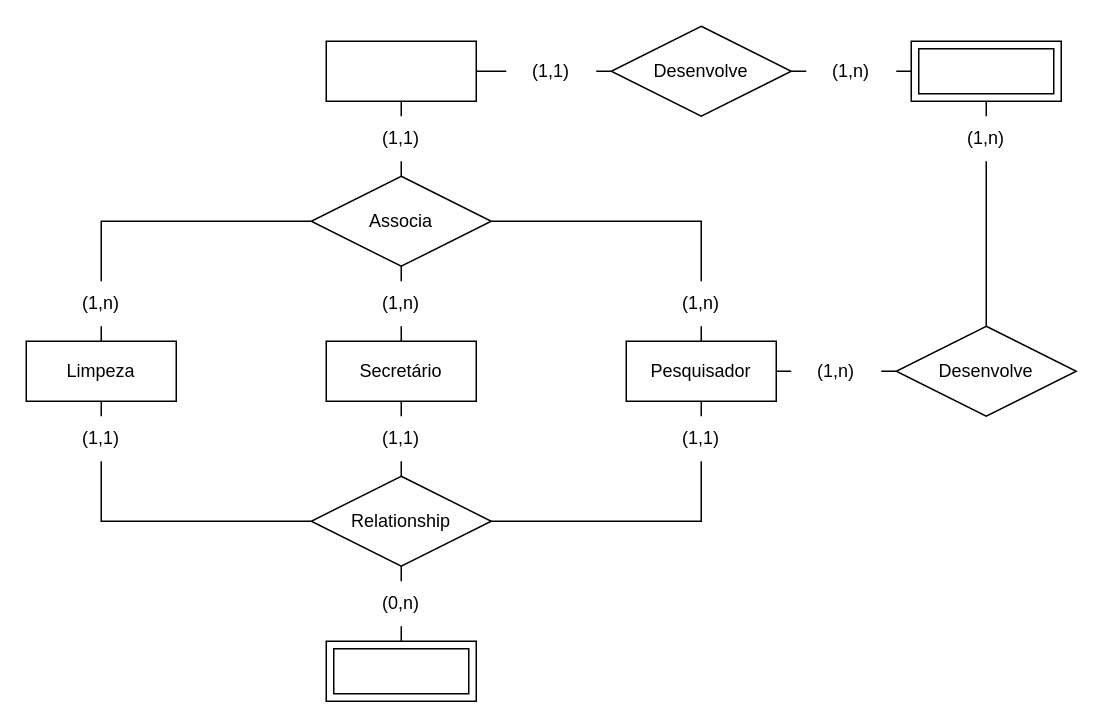
Some shapes in this 1103 by 728 pixel diagram are drawn without their labels. Here are the shapes that lost their labels. From the top down, the centre of each, then its label:
the point at 400,70: Departamento
the point at 985,70: Projeto
the point at 400,670: Dependentes
